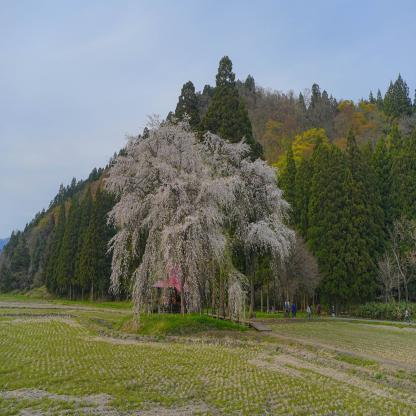ShidareZakura: (103, 110, 297, 324)
